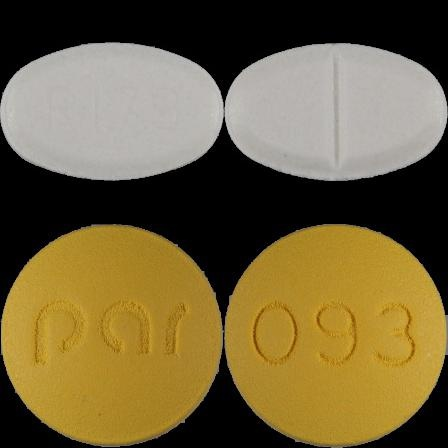68084-775: (0, 0, 224, 224)
